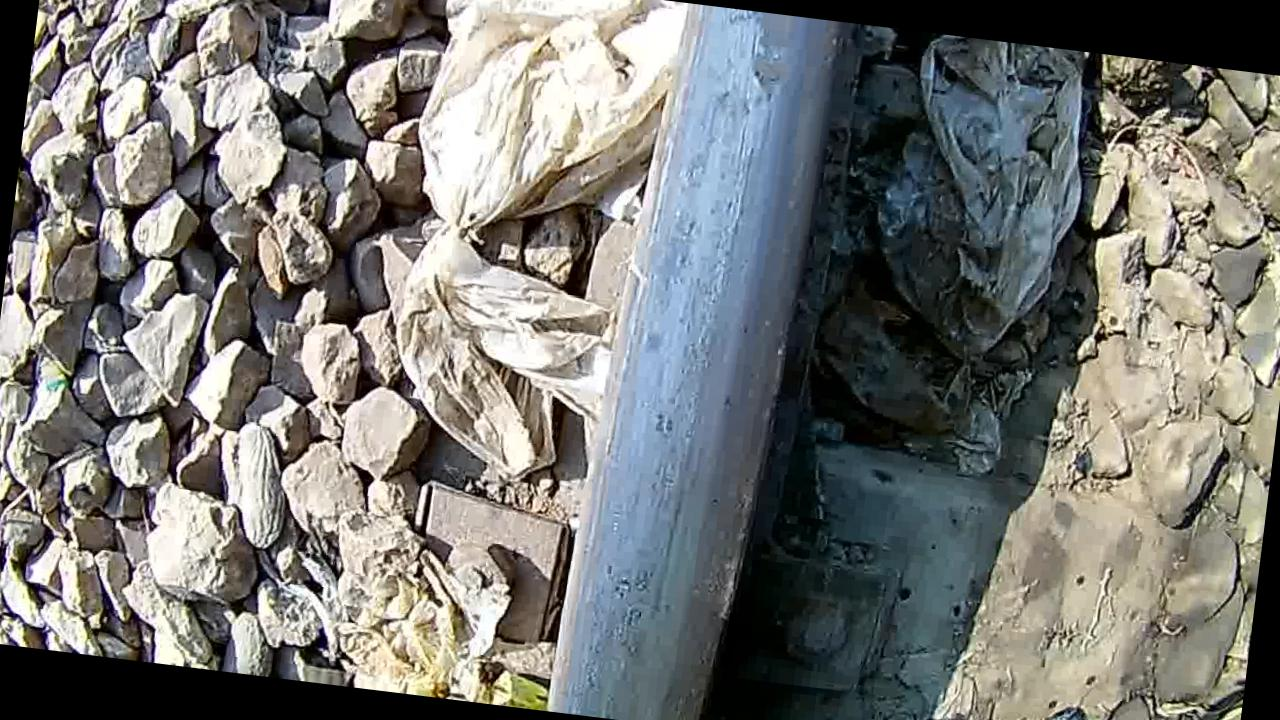bolt_missing: (580, 0, 838, 720)
